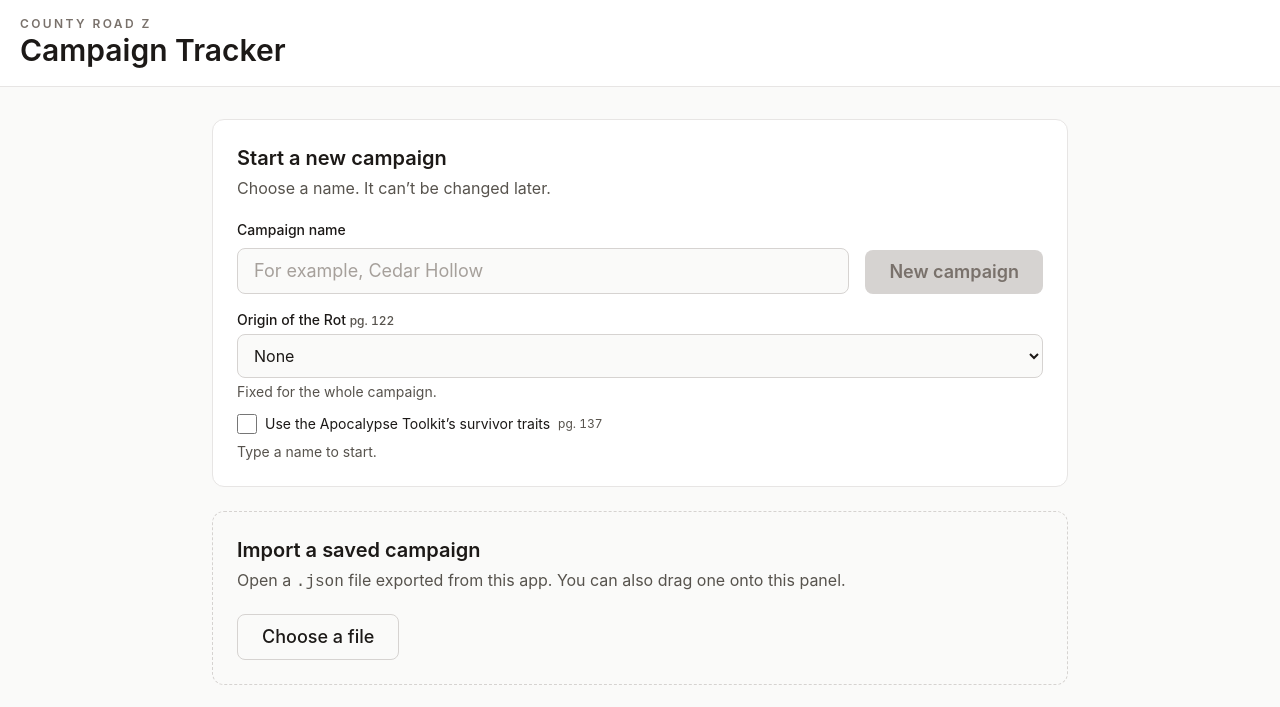
the one-screen layout › keeps the log and the campaign file in the header menu, with the version
The width and height of the screenshot is (1280, 707).
Type "Cedar Hollow" into the field labelled "Campaign name".
click(543, 270); type("Cedar Hollow")  # box [237,248,849,294]
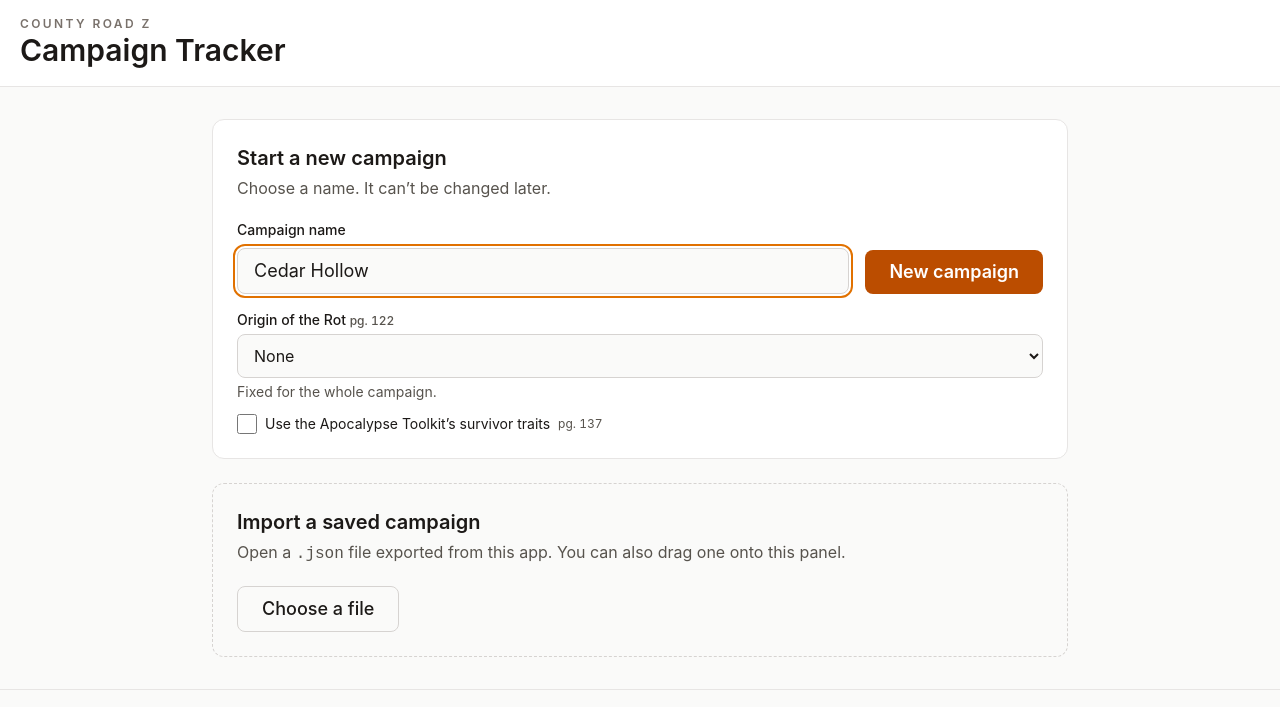
Click the button "New campaign".
click(954, 272)  # box [865,250,1043,294]
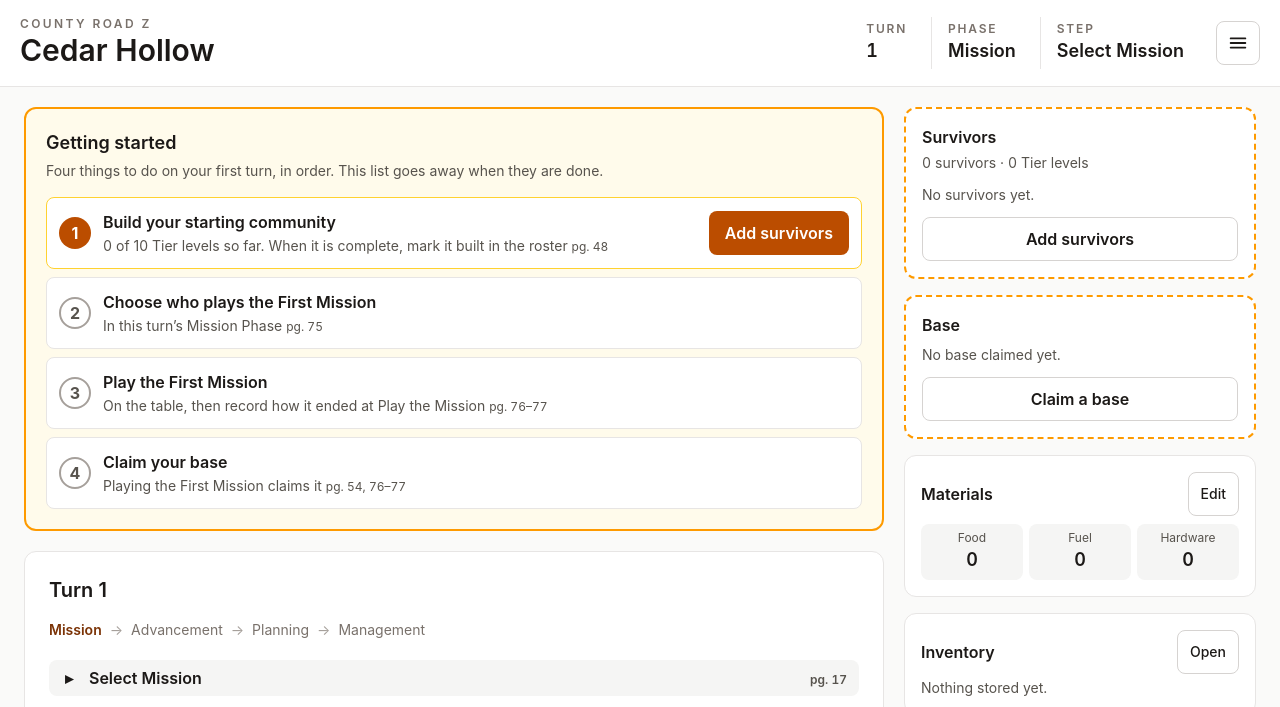
Click the button named "menu".
click(1238, 43)  # box [1216,21,1260,65]
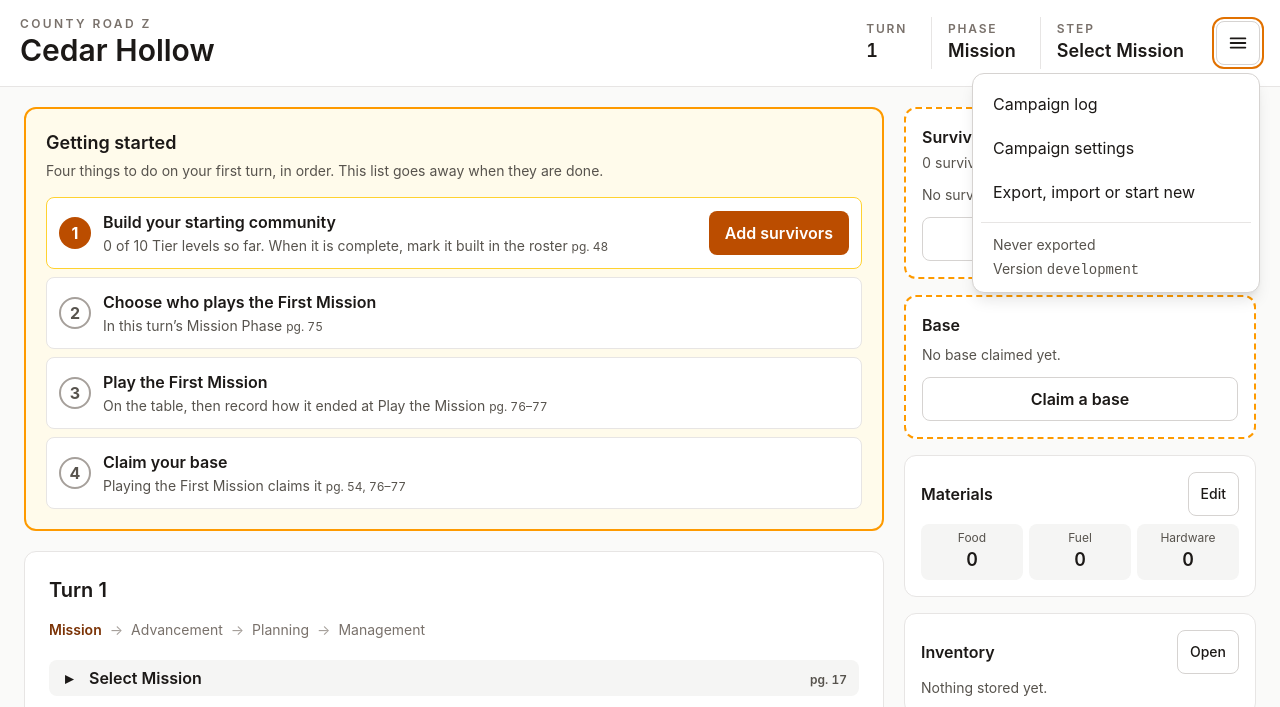
Result: the text "Never exported" is shown at [993,236,1096,253]
Click the button "Campaign log".
click(1045, 104)  # box [981,82,1251,126]
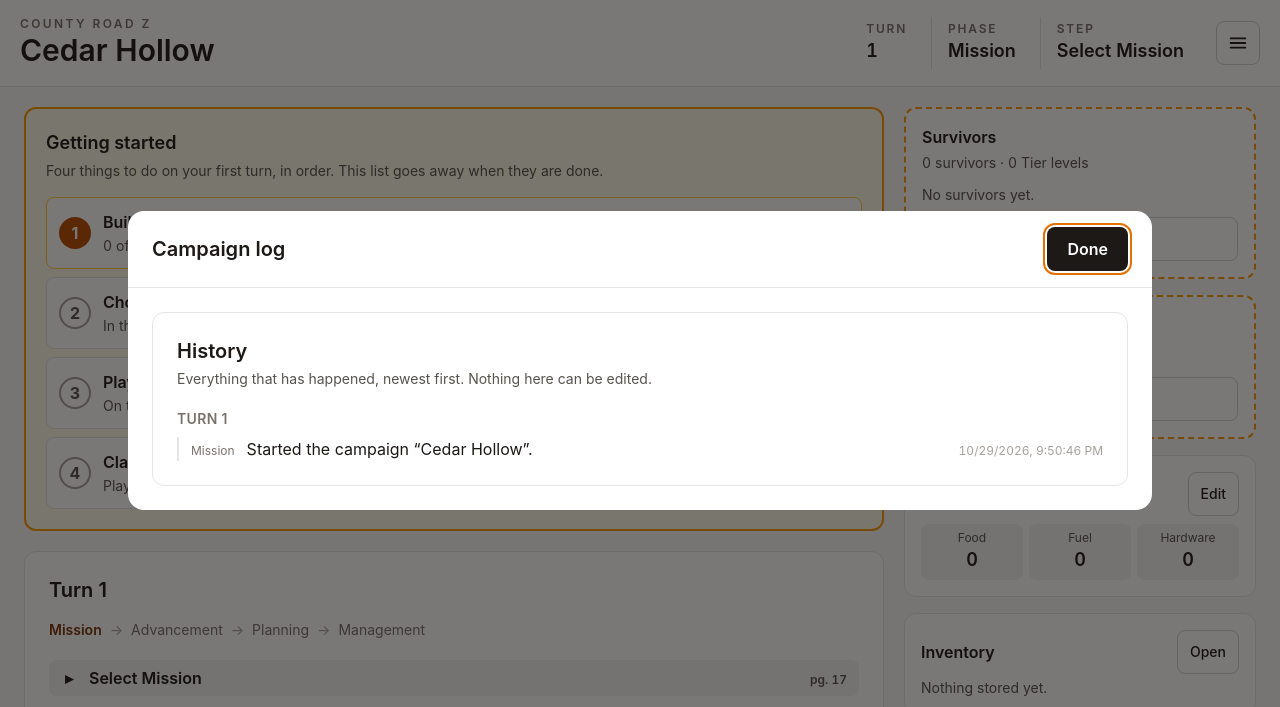
Result: the element "History" is shown at [152,312,1128,486]
